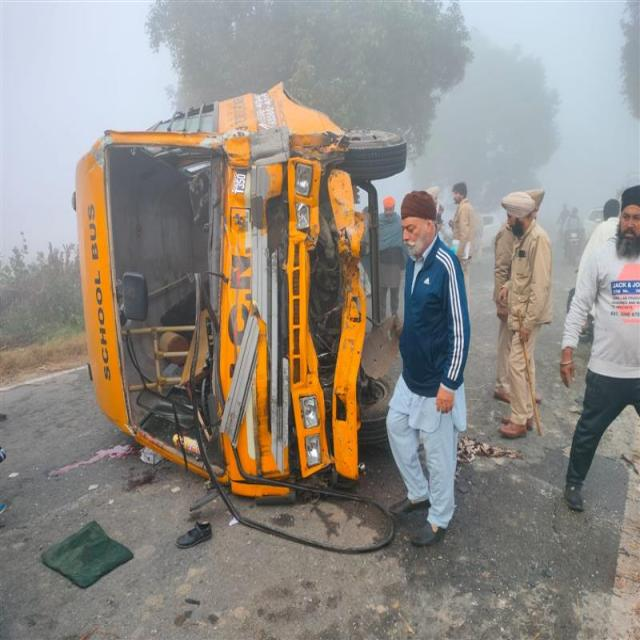accident: (75, 83, 406, 498)
